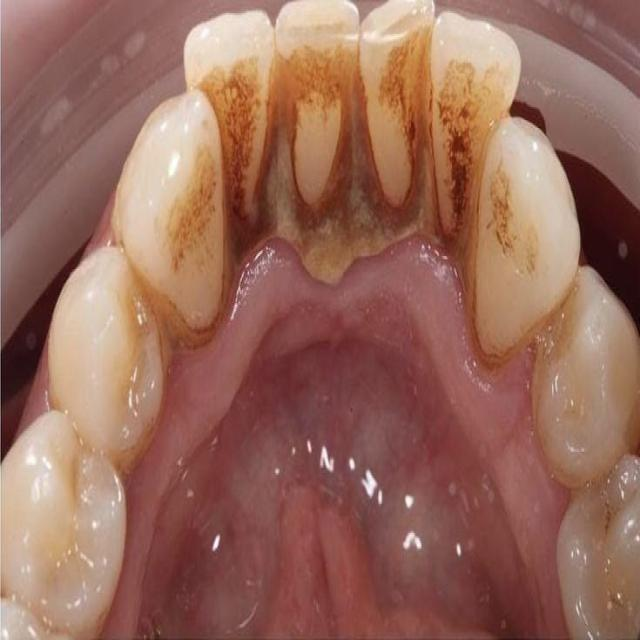calculus: (280, 63, 350, 279), (360, 70, 423, 245), (448, 150, 476, 289)
